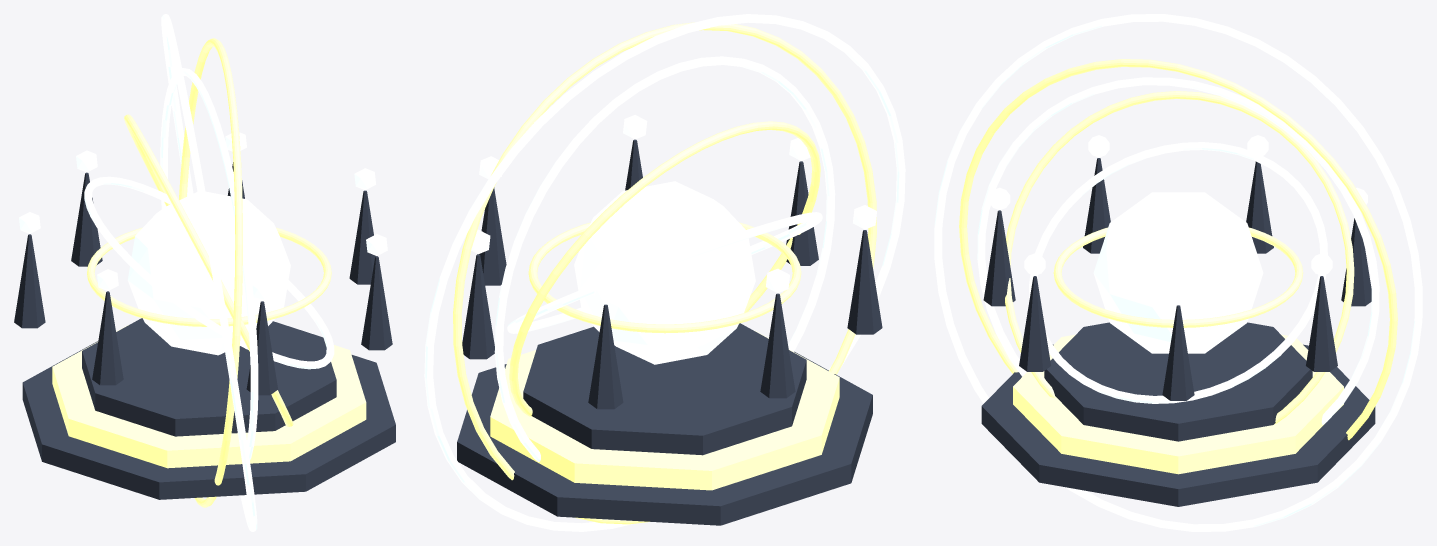
The model's file is gpu-blender-v36.glb.
3 renders of one model, left to right at view 1: azimuth 30°, elevation 25°; view 2: azimuth 150°, elevation 25°; view 3: azimuth 270°, elevation 25°, orthographic. The views are drawn at different scales.
Parts seen in each view (by area): view 1: Cylinder.002, Cylinder, SovereignCore_nexus-3d-scene-studio, Cylinder.001, Torus.005, Torus.004, Torus.003, Torus.001, Torus, Torus.002, Cone.003, Cone.006 (+4 smaller); view 2: Cylinder.002, SovereignCore_nexus-3d-scene-studio, Cylinder, Cylinder.001, Torus.005, Torus.003, Torus.004, Torus.002, Torus.001, Torus, Cone.002, Cone.003 (+4 smaller); view 3: SovereignCore_nexus-3d-scene-studio, Cylinder.002, Cylinder, Cylinder.001, Torus.005, Torus.004, Torus.003, Torus.002, Torus.001, Torus, Cone, Cone.001 (+5 smaller).
Part boxes in pixels (x1,y1,x2,y2): Cylinder.002: [82, 318, 336, 436]; Cylinder: [22, 341, 395, 499]; SovereignCore_nexus-3d-scene-studio: [127, 191, 290, 355]; Cylinder.001: [52, 325, 366, 468]; Torus.005: [161, 14, 257, 531]; Torus.004: [179, 38, 242, 507]; Torus.003: [160, 68, 258, 459]; Torus.001: [84, 176, 334, 369]; Torus: [87, 227, 331, 326]; Torus.002: [124, 114, 293, 426]; Cone.003: [14, 234, 45, 328]; Cone.006: [361, 256, 392, 350]; Cylinder.002: [523, 323, 806, 455]; SovereignCore_nexus-3d-scene-studio: [574, 181, 755, 364]; Cylinder: [457, 351, 872, 525]; Cylinder.001: [490, 330, 839, 490]; Torus.005: [424, 14, 905, 531]; Torus.003: [494, 56, 835, 461]; Torus.004: [453, 22, 876, 524]; Torus.002: [509, 121, 820, 416]; Torus.001: [507, 212, 822, 333]; Torus: [528, 222, 801, 333]; Cone.002: [588, 304, 623, 409]; Cone.003: [760, 293, 795, 398]; SovereignCore_nexus-3d-scene-studio: [1093, 192, 1263, 353]; Cylinder.002: [1044, 322, 1312, 441]; Cylinder: [981, 344, 1375, 506]; Cylinder.001: [1013, 334, 1343, 474]; Torus.005: [934, 14, 1422, 531]; Torus.004: [959, 59, 1397, 440]; Torus.003: [977, 77, 1379, 424]; Torus.002: [1005, 91, 1354, 423]; Torus.001: [1029, 142, 1327, 403]; Torus: [1053, 227, 1303, 327]; Cone: [1162, 305, 1194, 400]; Cone.001: [1306, 276, 1337, 371].
Size of the model in its own units: 4.41 by 5.93 by 5.46.
